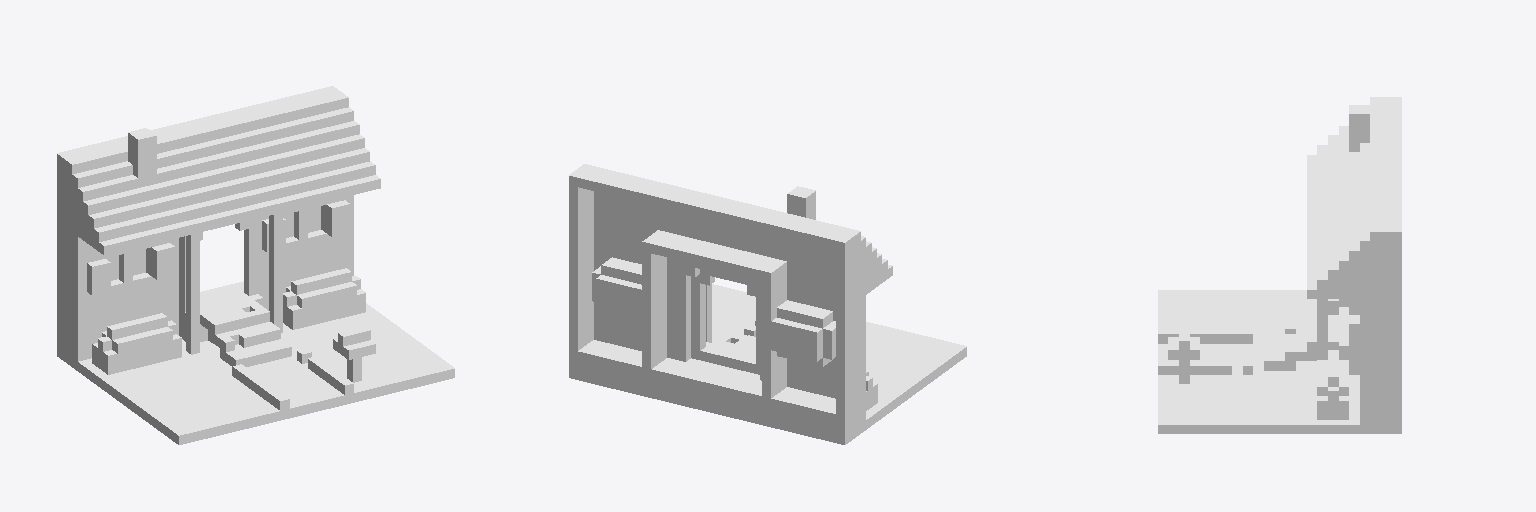
Rendered from maison.obj.
3 views of the same model, side by side, from view 1: azimuth 30°, elevation 25°; view 2: azimuth 150°, elevation 25°; view 3: azimuth 270°, elevation 25° (orthographic).
Visible parts, largest first — view 1: object 1; view 2: object 1; view 3: object 1.
Part boxes in pixels (left/top/right/bottom): object 1: left=57, top=86, right=454, bottom=444; object 1: left=569, top=164, right=966, bottom=444; object 1: left=1158, top=97, right=1401, bottom=433.
Bounding box in the file's own units: 3 × 2.3 × 2.3.